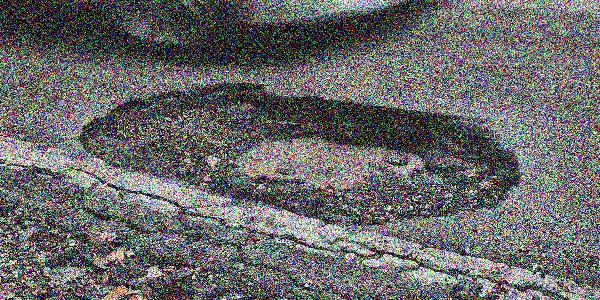pothole: (74, 79, 522, 228)
